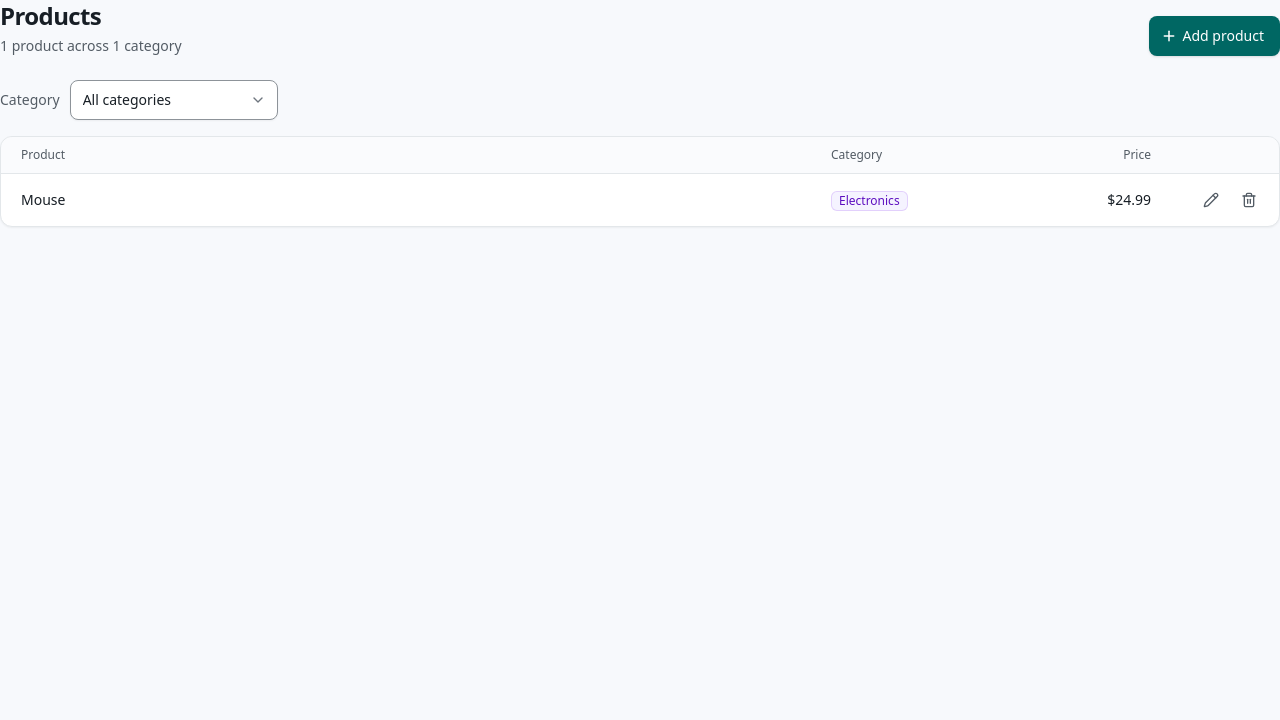
Test: delete product › treats an already-deleted product (404) as done
Click the button named "Delete Mouse" at (1249, 200), box [1231, 182, 1267, 218]
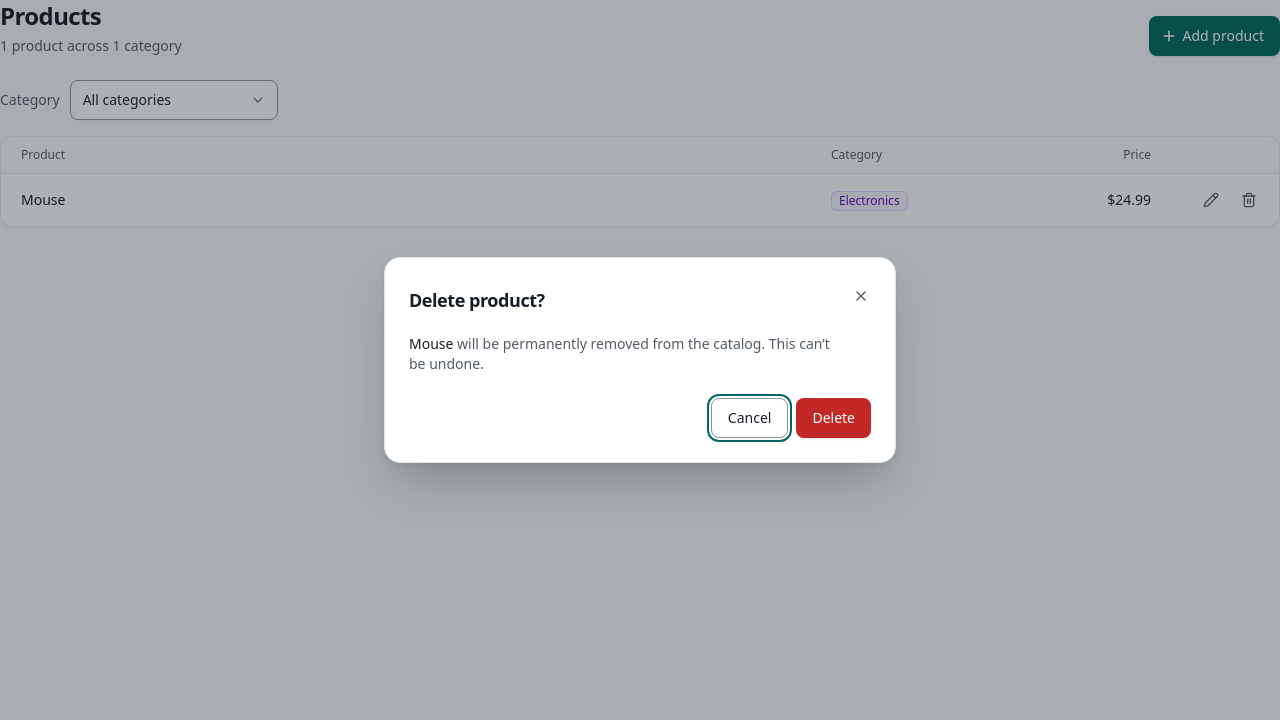
Click the button "Delete" at (834, 418), box [796, 398, 871, 438]
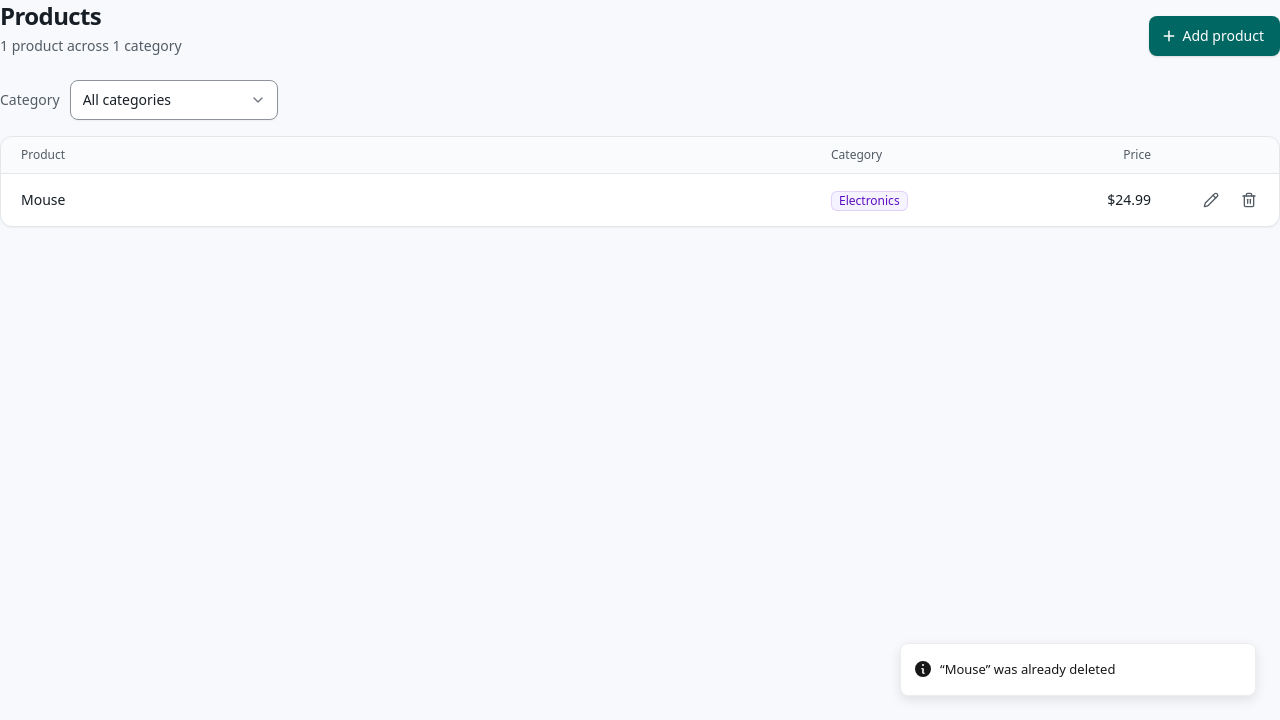
Check: the text "“Mouse” was already deleted" is shown, box [940, 660, 1115, 679]
Check: the dialog is gone
